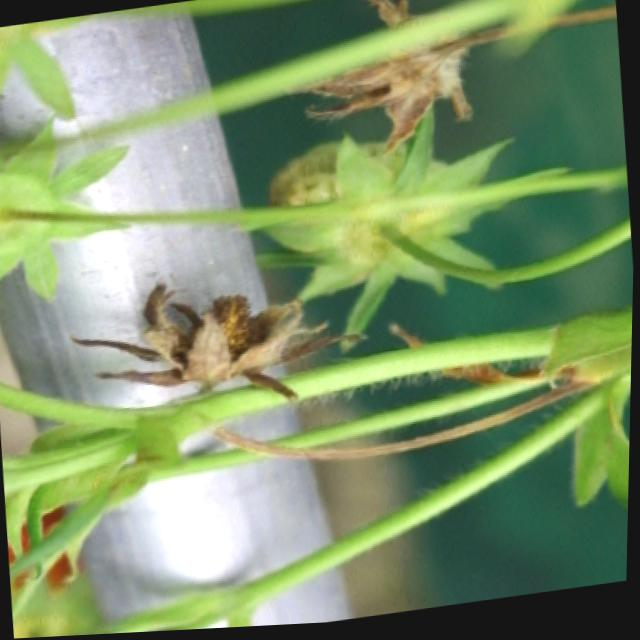Gray Mold: (70, 284, 362, 406), (300, 0, 503, 158)
